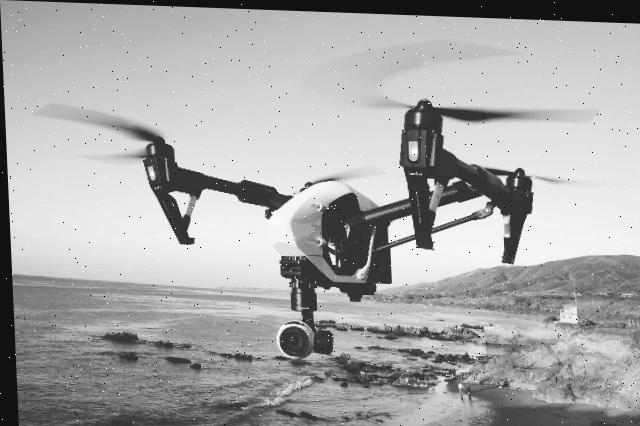drone: (2, 59, 640, 426)
